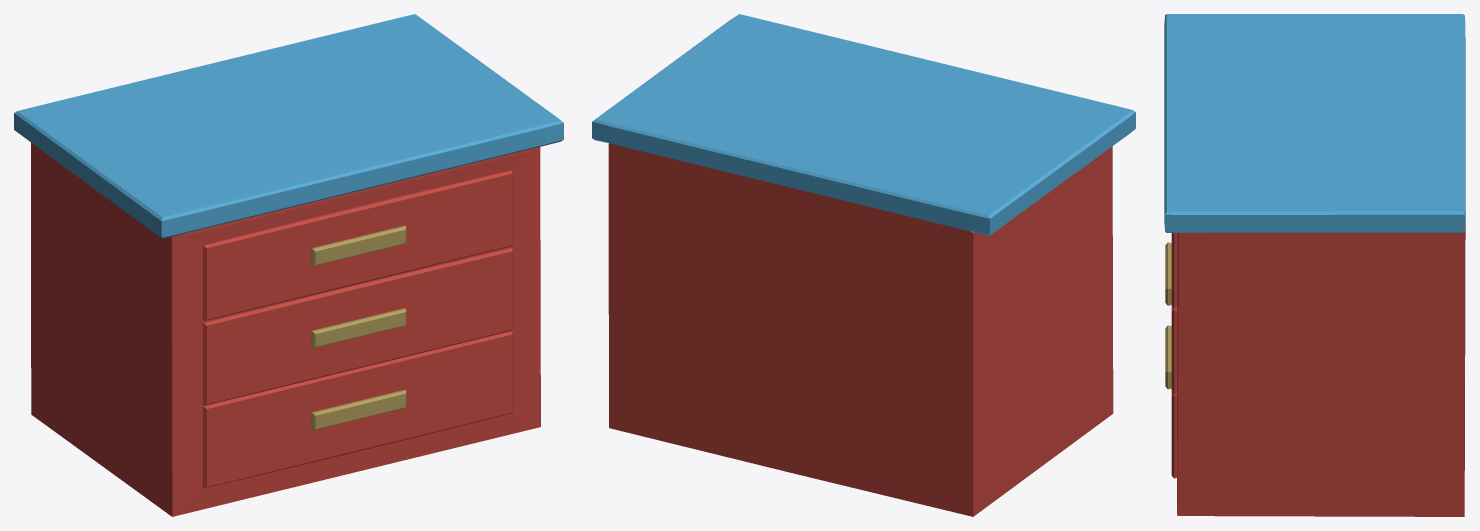
File: LudumDareCabinetDrawers 1.fbx
3 views of the same model, side by side, from view 1: azimuth 30°, elevation 25°; view 2: azimuth 150°, elevation 25°; view 3: azimuth 270°, elevation 25° (orthographic). The views are drawn at different scales.
Parts seen in each view (by area): view 1: Cabinet Drawer, Cabinet Drawer.002, Cabinet Drawer.001; view 2: Cabinet Drawer, Cabinet Drawer.002; view 3: Cabinet Drawer, Cabinet Drawer.002, Cabinet Drawer.001.
Part boxes in pixels (x1,y1,x2,y2): Cabinet Drawer: (31,142,540,516); Cabinet Drawer.002: (14,14,563,238); Cabinet Drawer.001: (311,225,406,430); Cabinet Drawer: (608,143,1113,516); Cabinet Drawer.002: (592,14,1135,236); Cabinet Drawer: (1171,223,1465,516); Cabinet Drawer.002: (1164,14,1465,232); Cabinet Drawer.001: (1165,242,1171,389).
Bounding box in the file's own units: 116 × 84.54 × 73.65.
